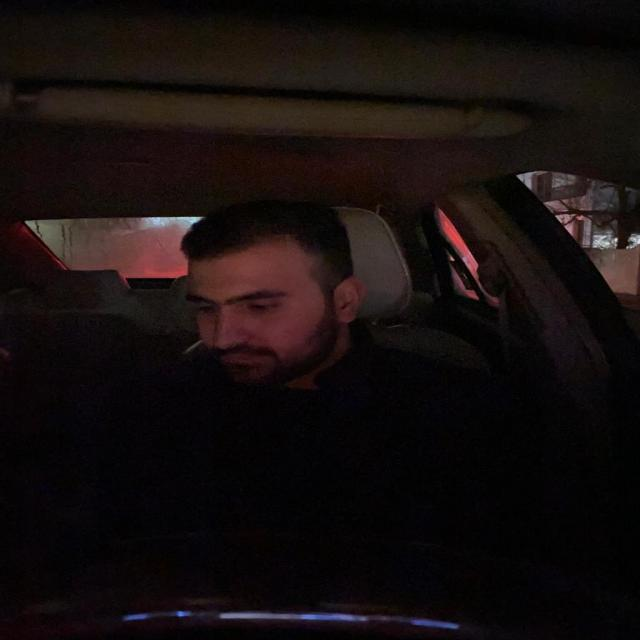person: (179, 198, 363, 387)
